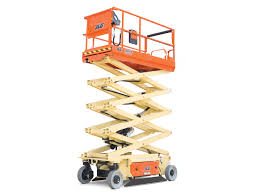Scissor Lift: (77, 7, 179, 190)
